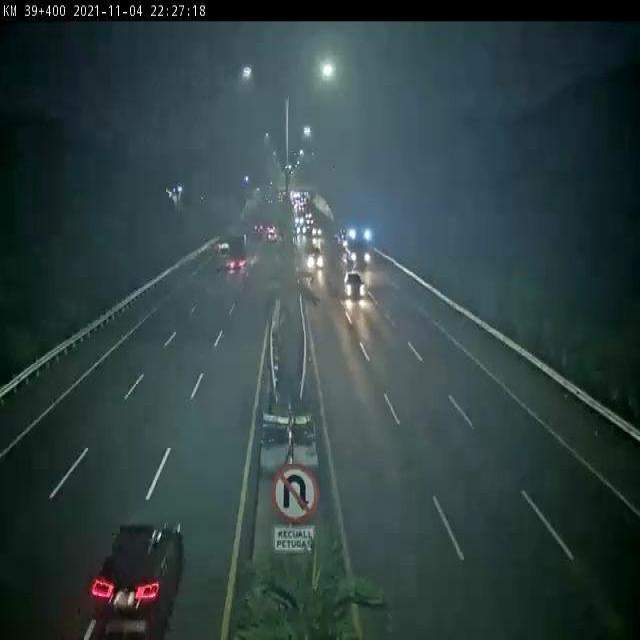car: (91, 520, 182, 632), (342, 271, 363, 296), (305, 244, 324, 269)
truck-m-: (226, 232, 248, 276)
